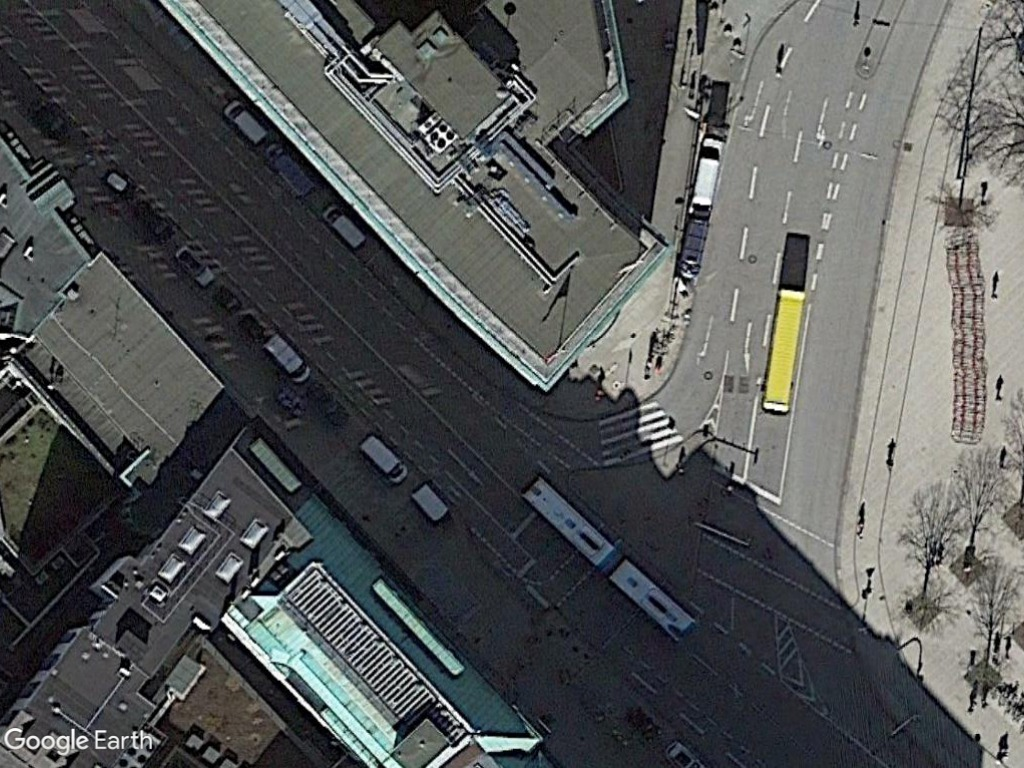bus: (518, 473, 619, 572), (601, 550, 698, 653), (757, 282, 808, 420)
van: (354, 431, 413, 489), (261, 329, 315, 386), (219, 94, 271, 150), (318, 201, 368, 255)
